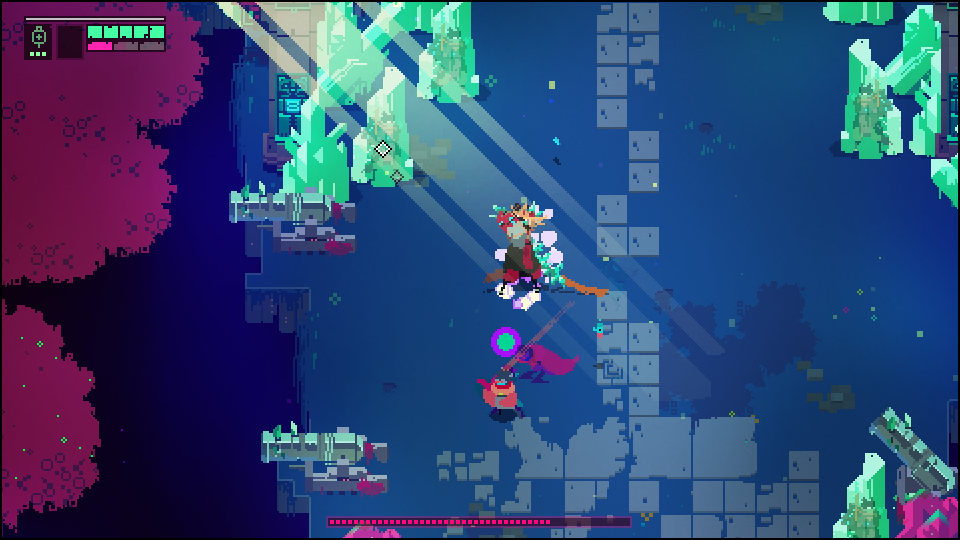hanged_man: (477, 197, 581, 308)
hanged_shot: (490, 324, 525, 361)
player: (473, 371, 527, 421)
